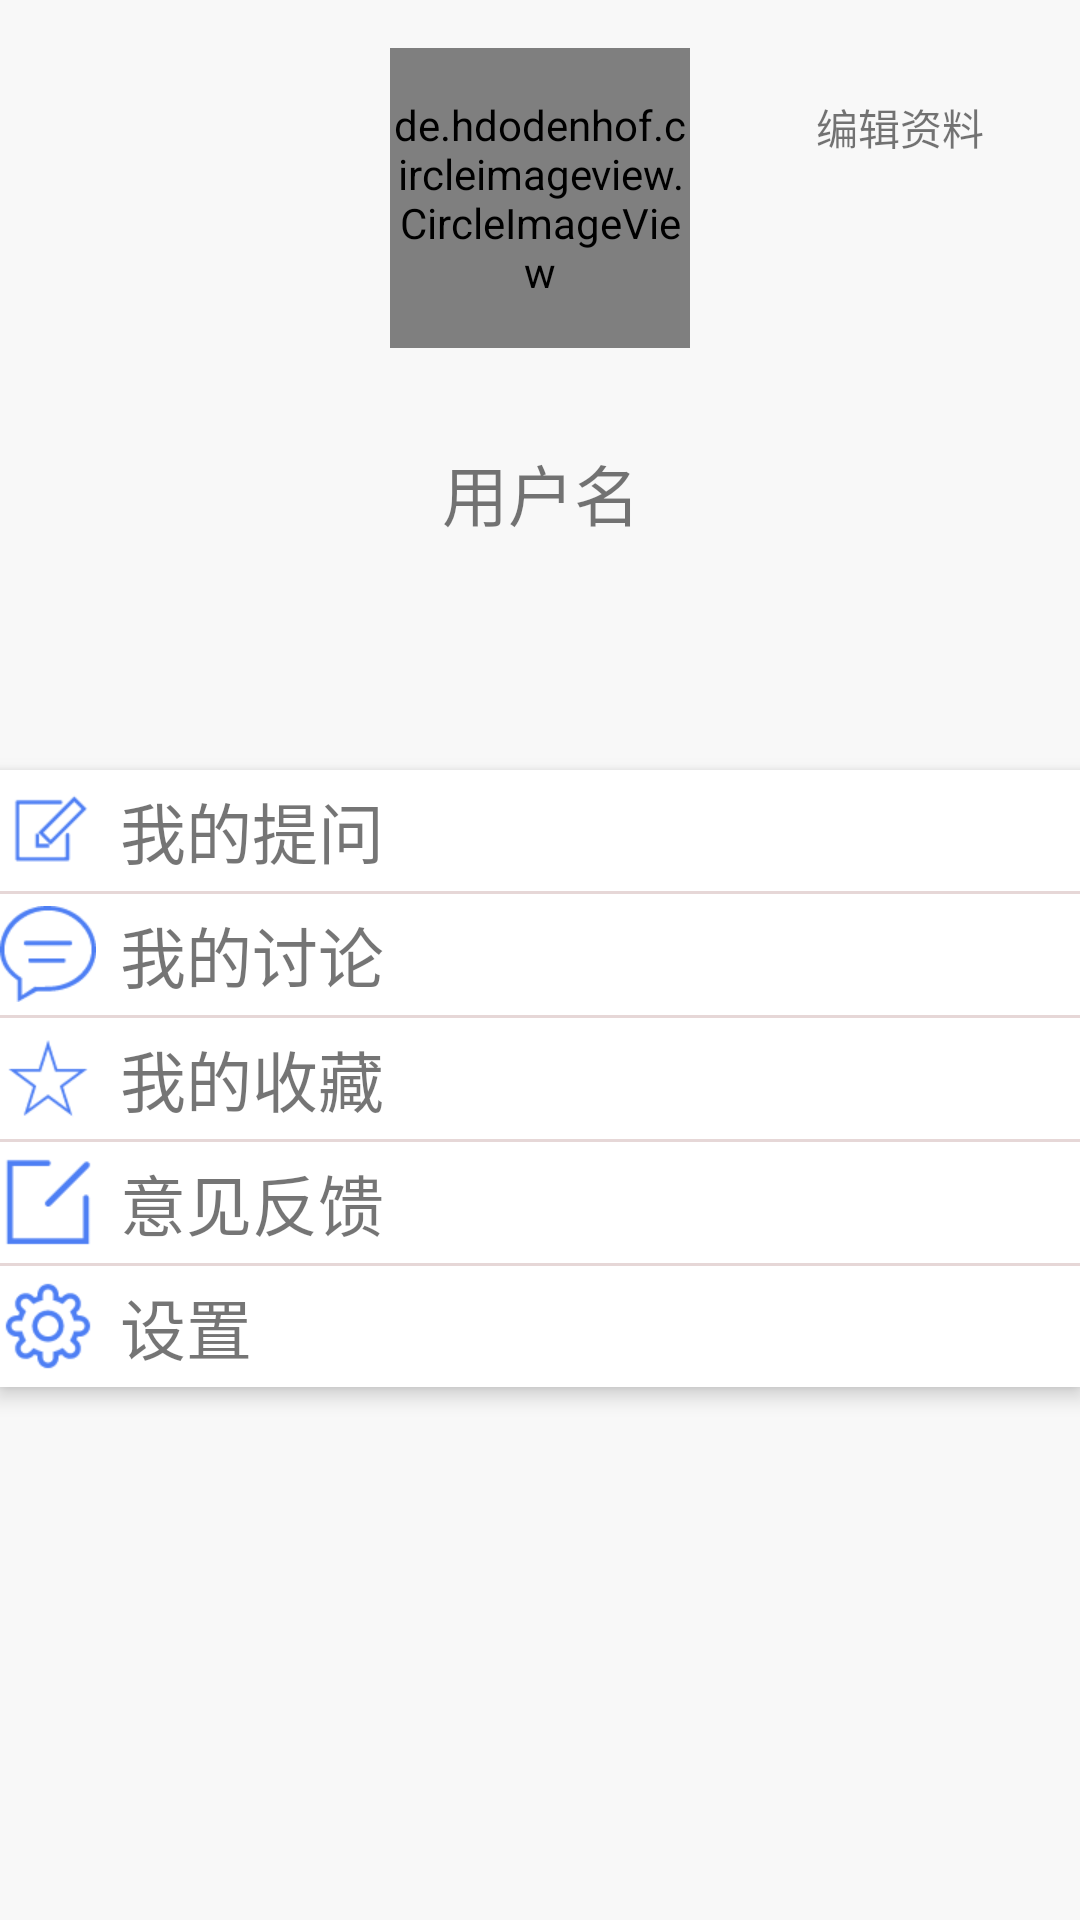

Where icons sit on this 1080×1920 app screen, as box=[x1, y1, x2, y2]:
collections: box=[9, 1040, 87, 1116]
discussions: box=[0, 906, 96, 1002]
feedback: box=[6, 1160, 90, 1245]
settings: box=[5, 1283, 91, 1369]
